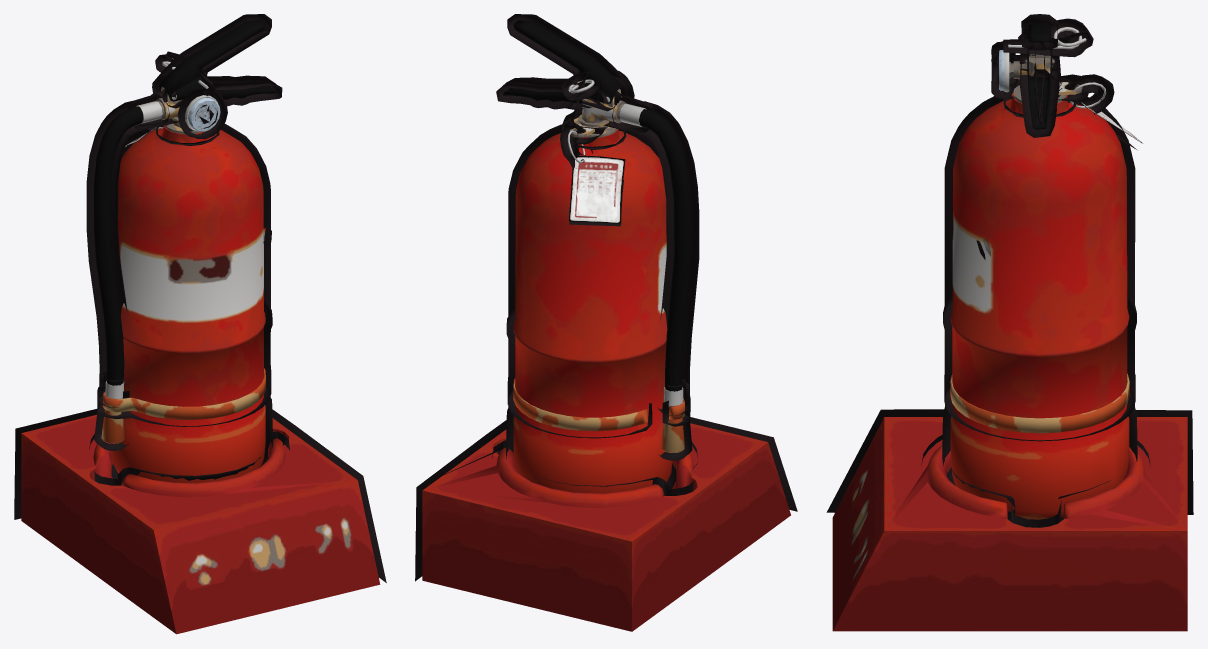
The model's file is SM_Int_Extinguisher.fbx.
3 renders of one model, left to right at view 1: azimuth 30°, elevation 25°; view 2: azimuth 150°, elevation 25°; view 3: azimuth 270°, elevation 25°, orthographic. The views are drawn at different scales.
Visible parts, largest first — view 1: SM_Int_Extinguisher; view 2: SM_Int_Extinguisher; view 3: SM_Int_Extinguisher.
Part boxes in pixels (left/top/right/bottom): SM_Int_Extinguisher: left=14, top=14, right=386, bottom=634; SM_Int_Extinguisher: left=415, top=14, right=797, bottom=631; SM_Int_Extinguisher: left=826, top=14, right=1193, bottom=631.
Size of what is drawn, in the model's own units: 0.2703 by 0.6078 by 0.346.
